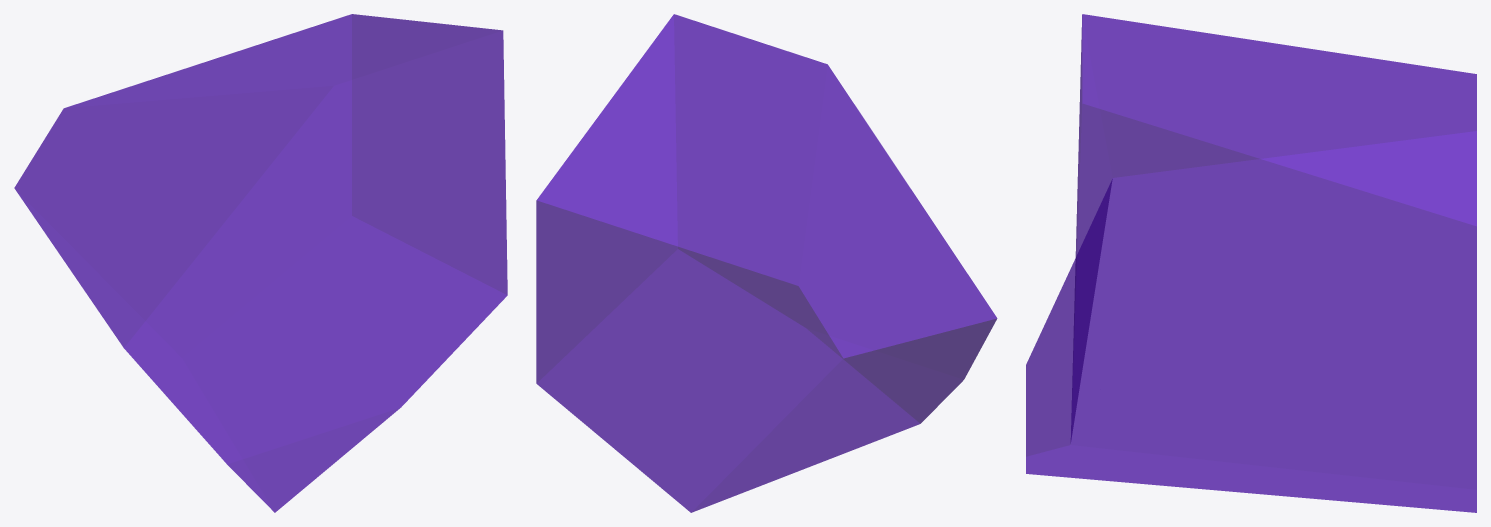
Rendered from crystal_1.fbx.
3 renders of one model, left to right at view 1: azimuth 30°, elevation 25°; view 2: azimuth 150°, elevation 25°; view 3: azimuth 270°, elevation 25°, orthographic. The views are drawn at different scales.
Parts seen in each view (by area): view 1: Cube; view 2: Cube; view 3: Cube.
Boxes of the visible parts, bbox=[...] form: Cube: bbox=[14, 14, 507, 512]; Cube: bbox=[536, 14, 997, 512]; Cube: bbox=[1026, 14, 1476, 512].
Size of the model in its own units: 154 by 162 by 125.
